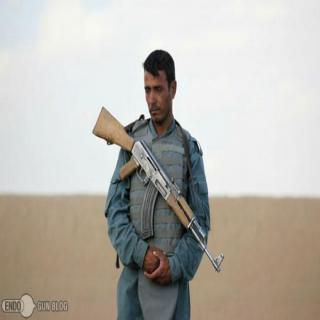gun: (93, 105, 224, 272)
